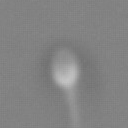normal: (58, 88, 84, 128)
